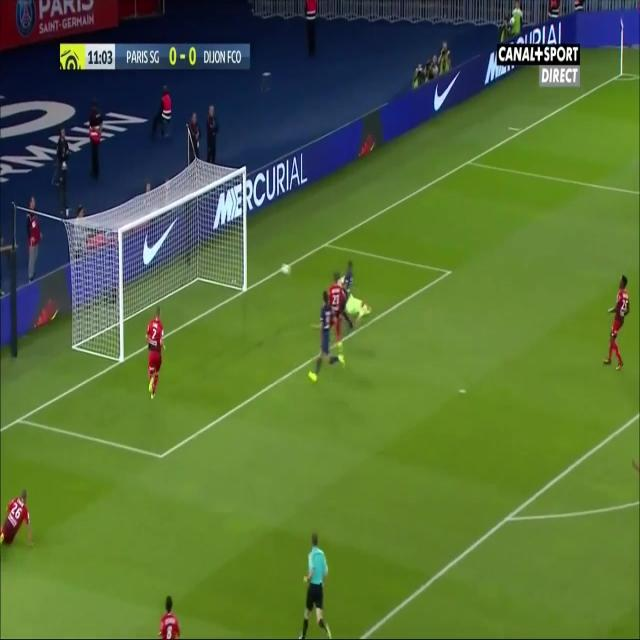Ball: (280, 262, 291, 276)
Goalkeeper: (341, 267, 375, 323)
Player: (306, 289, 346, 384), (602, 272, 632, 375), (2, 484, 36, 558), (144, 306, 165, 400), (330, 273, 346, 353), (157, 591, 182, 640)
Referee: (296, 524, 336, 640)
